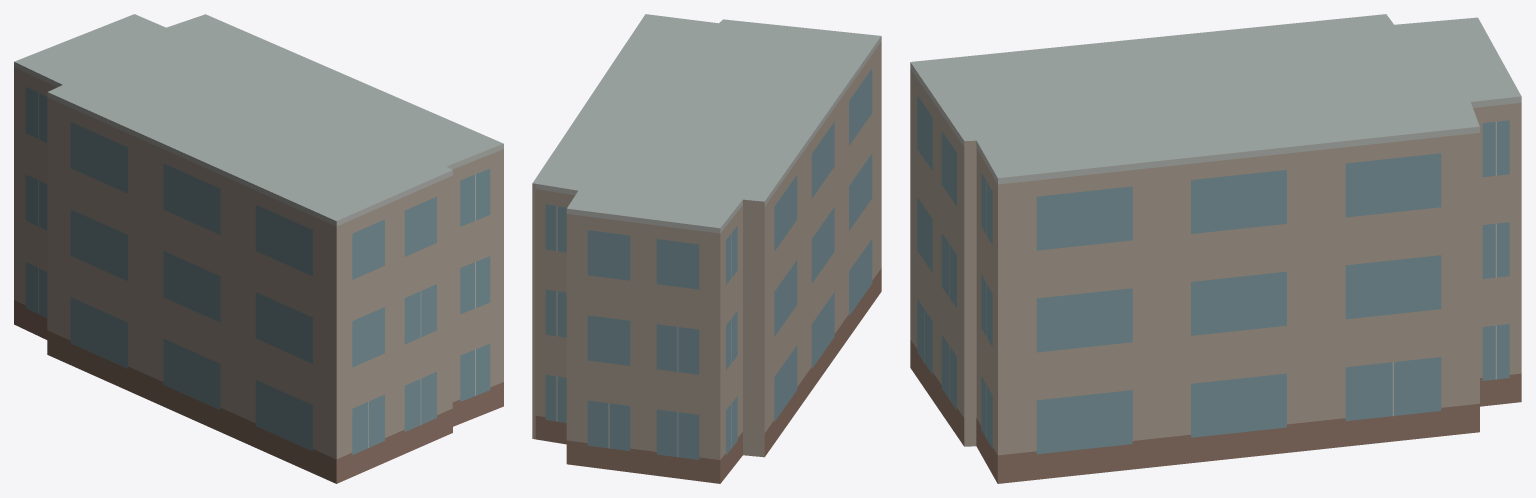
File: survey-upis-33022374.glb
3 renders of one model, left to right at view 1: azimuth 30°, elevation 25°; view 2: azimuth 150°, elevation 25°; view 3: azimuth 270°, elevation 25°, orthographic. The views are drawn at different scales.
Parts seen in each view (by area): view 1: survey-upis-33022374.tmp; view 2: survey-upis-33022374.tmp; view 3: survey-upis-33022374.tmp.
Part boxes in pixels (bbox=[...]): survey-upis-33022374.tmp: bbox=[14, 14, 503, 483]; survey-upis-33022374.tmp: bbox=[532, 14, 881, 483]; survey-upis-33022374.tmp: bbox=[910, 14, 1521, 483].
Size of the model in its own units: 13.79 by 11.95 by 21.68.
